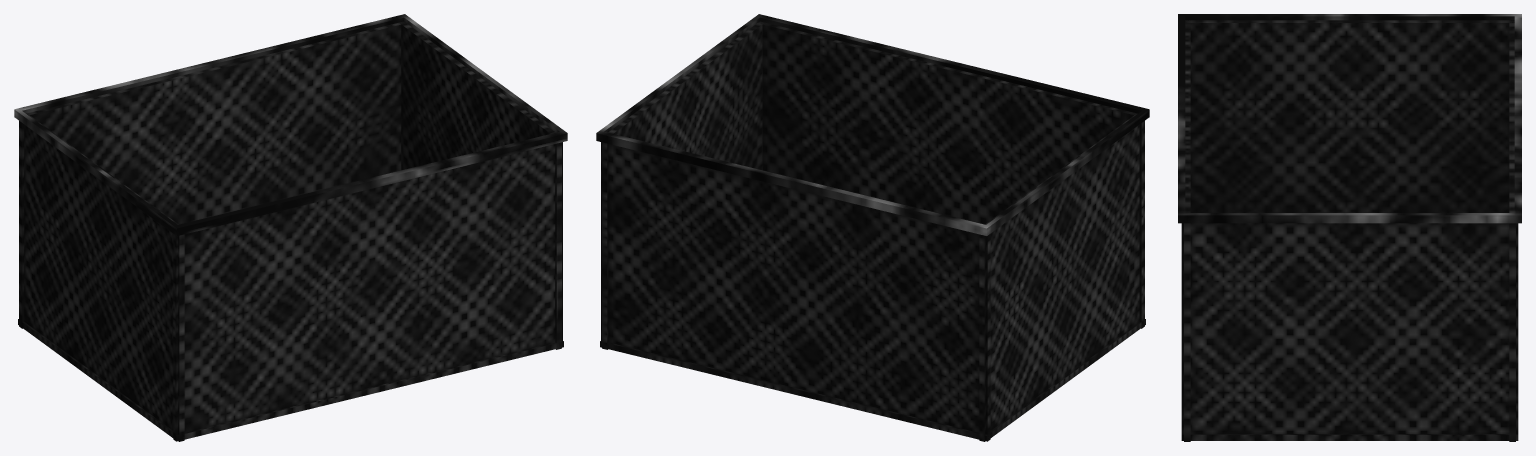
Rendered from basket_lod1_web.glb.
3 views of the same model, side by side, from view 1: azimuth 30°, elevation 25°; view 2: azimuth 150°, elevation 25°; view 3: azimuth 270°, elevation 25° (orthographic). The views are drawn at different scales.
Parts seen in each view (by area): view 1: Basket_Body; view 2: Basket_Body; view 3: Basket_Body.
Part boxes in pixels (x1,y1,x2,y2): Basket_Body: (14, 14, 567, 441); Basket_Body: (596, 14, 1149, 441); Basket_Body: (1178, 14, 1521, 441).
Size of the model in its own units: 0.4246 by 0.224 by 0.3065.
1 material, 1 textured.
